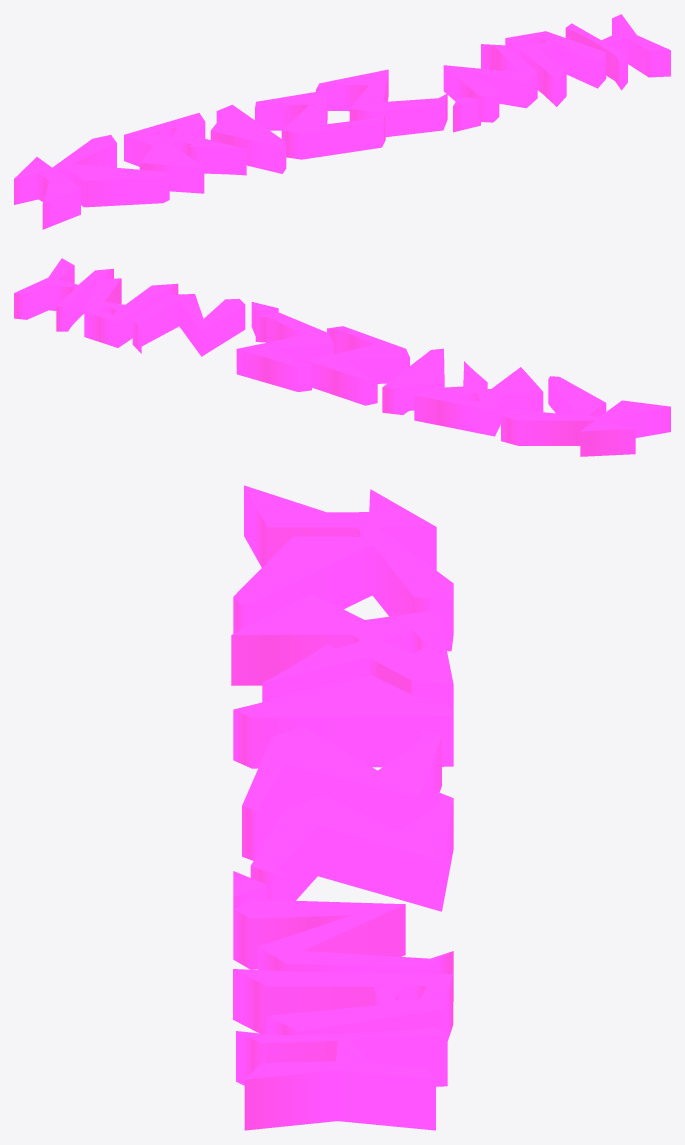
Rendered from krizznah.glb.
The picture shows the model from 3 angles, top to bottom: view 1: azimuth 30°, elevation 25°; view 2: azimuth 150°, elevation 25°; view 3: azimuth 270°, elevation 25°; orthographic projection. The views are drawn at different scales.
Visible parts, largest first — view 1: Curve.009; view 2: Curve.009; view 3: Curve.009.
Part boxes in pixels (x1,y1,x2,y2): Curve.009: (14, 14, 670, 229); Curve.009: (14, 258, 670, 456); Curve.009: (231, 485, 453, 1130).
Bounding box in the file's own units: 0.5015 × 0.02 × 0.0793.
